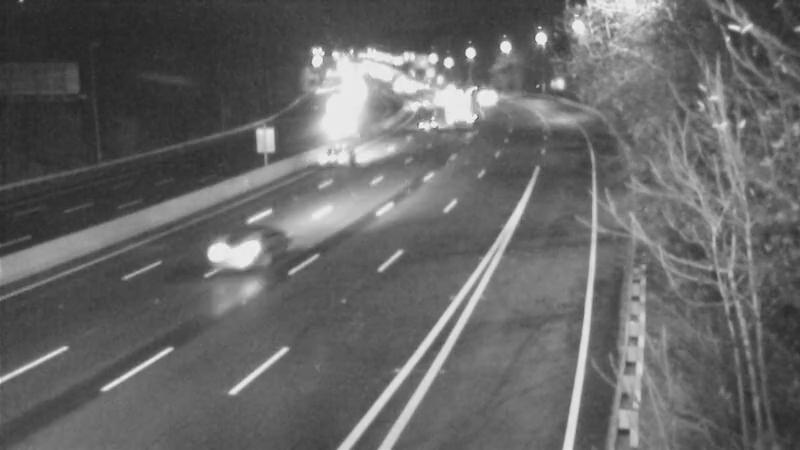vehicle: (297, 114, 377, 194), (188, 211, 268, 291), (464, 72, 514, 122), (434, 79, 484, 129), (407, 98, 457, 148)
